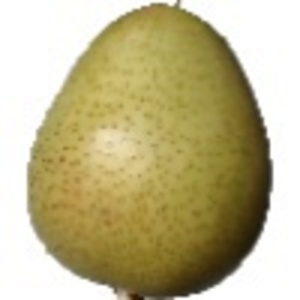pera: (26, 1, 273, 300)
